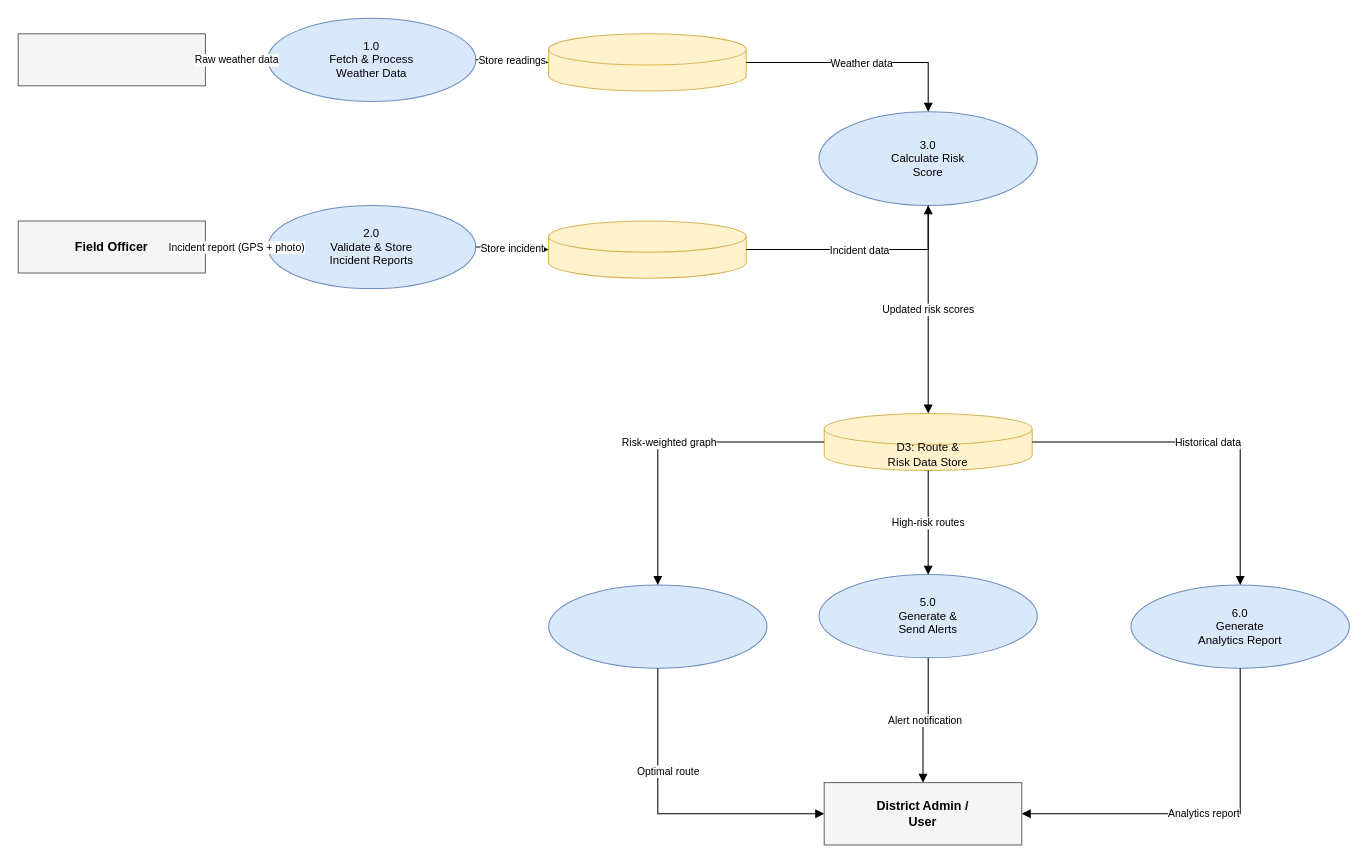
This 1368x863 diagram has some shape labels left out. Each missing label, with the centre of its shape:
"4.0 Compute Optimal Route (Dijkstra)" goes at point 657,626.
"D1: Weather Data Store" goes at point 647,62.
"D2: Incident Reports Store" goes at point 647,249.
"Weather API" goes at point 111,59.
